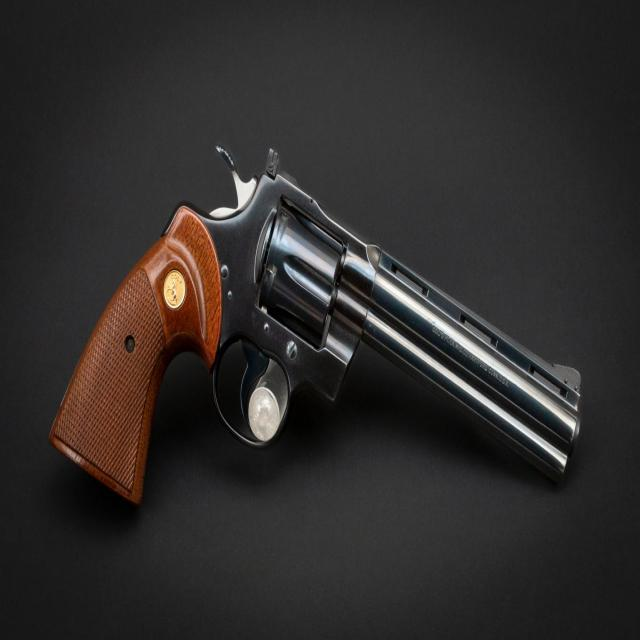handgun: (43, 133, 579, 559)
